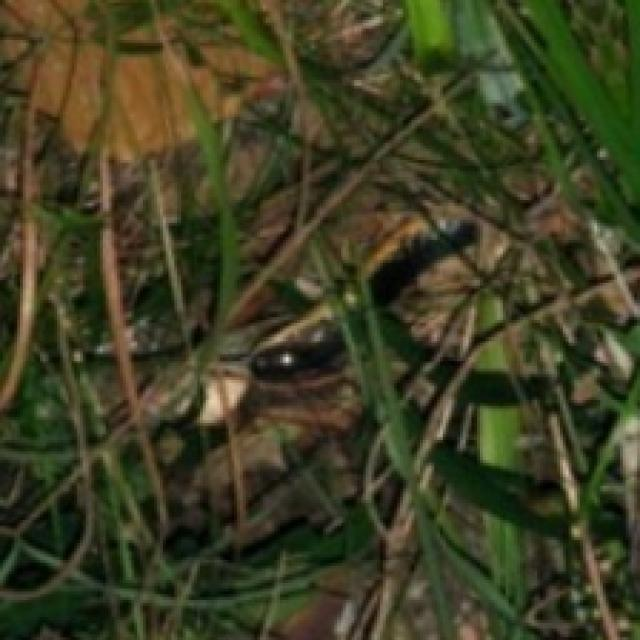king cobra: (197, 286, 340, 423), (249, 277, 340, 377)
